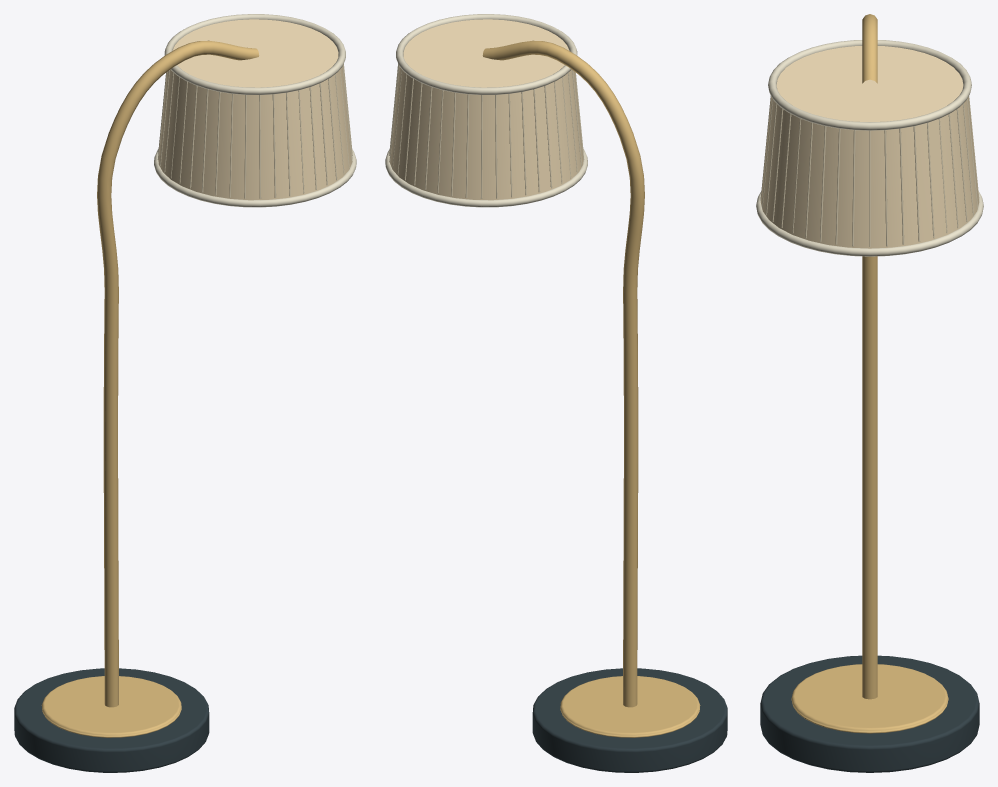
The model's file is floorlamp.glb.
The picture shows the model from 3 angles, left to right: view 1: azimuth 30°, elevation 25°; view 2: azimuth 150°, elevation 25°; view 3: azimuth 270°, elevation 25°; orthographic projection. The views are drawn at different scales.
Visible parts, largest first — view 1: FloorLampRoot.LampShade, FloorLampRoot.MetalWarm, FloorLampRoot.Graphite, FloorLampRoot.PotIvory, FloorLampRoot.CushionCream; view 2: FloorLampRoot.LampShade, FloorLampRoot.MetalWarm, FloorLampRoot.Graphite, FloorLampRoot.PotIvory, FloorLampRoot.CushionCream; view 3: FloorLampRoot.LampShade, FloorLampRoot.MetalWarm, FloorLampRoot.Graphite, FloorLampRoot.PotIvory, FloorLampRoot.CushionCream.
Boxes of the visible parts, x1,y1,x2,y2 form: FloorLampRoot.LampShade: (158,19,352,200); FloorLampRoot.MetalWarm: (41,40,259,737); FloorLampRoot.Graphite: (14,668,209,772); FloorLampRoot.PotIvory: (154,14,356,207); FloorLampRoot.CushionCream: (157,63,352,198); FloorLampRoot.LampShade: (389,19,583,200); FloorLampRoot.MetalWarm: (482,40,700,737); FloorLampRoot.Graphite: (532,668,727,772); FloorLampRoot.PotIvory: (385,14,587,207); FloorLampRoot.CushionCream: (389,63,584,198); FloorLampRoot.LampShade: (760,46,979,248); FloorLampRoot.MetalWarm: (791,14,948,733); FloorLampRoot.Graphite: (760,655,979,772); FloorLampRoot.PotIvory: (756,40,983,256); FloorLampRoot.CushionCream: (760,95,979,246).
Size of the model in its own units: 0.859 by 1.74 by 0.478.
